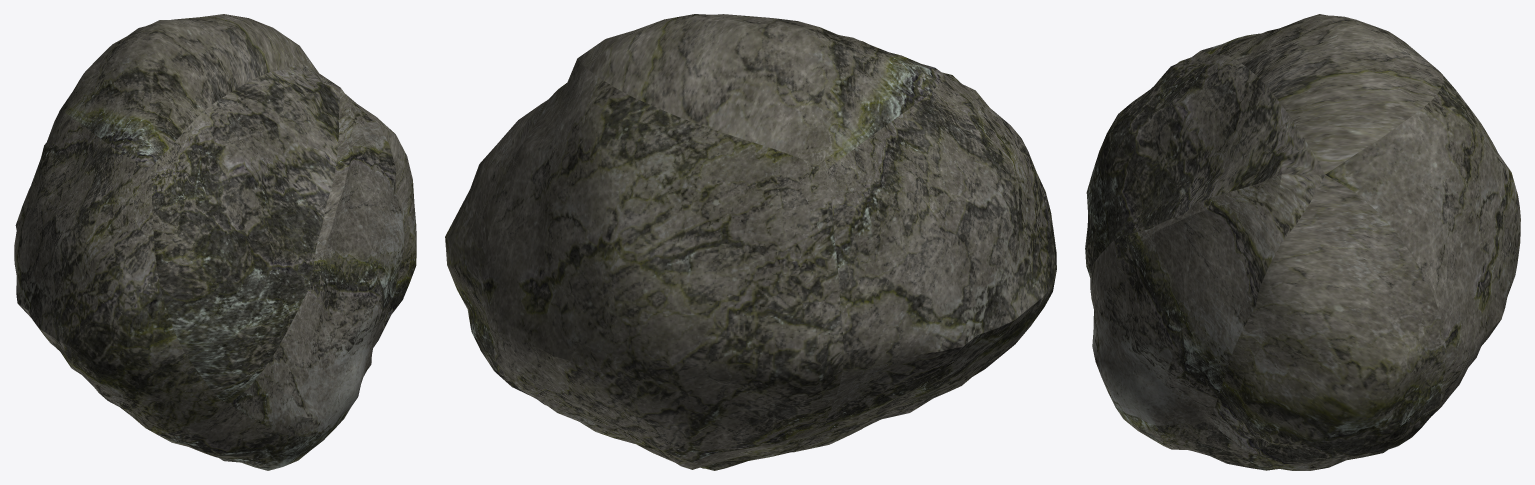
File: Rock1.fbx
3 renders of one model, left to right at view 1: azimuth 30°, elevation 25°; view 2: azimuth 150°, elevation 25°; view 3: azimuth 270°, elevation 25°, orthographic. The views are drawn at different scales.
Parts seen in each view (by area): view 1: rock.002; view 2: rock.002; view 3: rock.002.
Boxes of the visible parts, x1,y1,x2,y2 form: rock.002: (14,14,416,470); rock.002: (445,14,1056,470); rock.002: (1085,14,1520,470).
Size of the model in its own units: 105 by 96.11 by 92.
